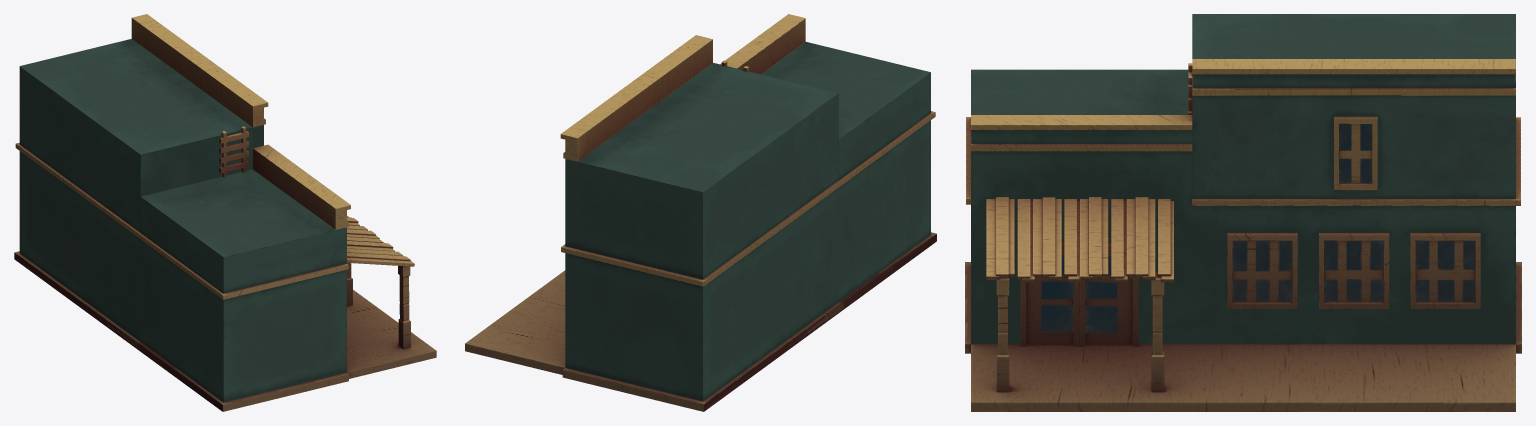
The model's file is DEF_large_house.fbx.
The picture shows the model from 3 angles, left to right: view 1: azimuth 30°, elevation 25°; view 2: azimuth 150°, elevation 25°; view 3: azimuth 270°, elevation 25°; orthographic projection. The views are drawn at different scales.
Parts seen in each view (by area): view 1: large_house_alta, large_house_bassa, base_large_house, tetto_alto, tetto_basso, tettoia, colonne, scala; view 2: large_house_alta, large_house_bassa, base_large_house, tetto_alto, tetto_basso; view 3: large_house_alta, large_house_bassa, base_large_house, tettoia, tetto_alto, tetto_basso, colonne.
Part boxes in pixels (x1,y1,x2,y2): large_house_alta: [15, 39, 263, 341]; large_house_bassa: [138, 169, 348, 402]; base_large_house: [14, 251, 436, 411]; tetto_alto: [131, 14, 268, 127]; tetto_basso: [253, 144, 350, 229]; tettoia: [347, 216, 414, 266]; colonne: [347, 263, 410, 349]; scala: [219, 126, 248, 177]; large_house_alta: [561, 63, 840, 401]; large_house_bassa: [761, 42, 935, 301]; base_large_house: [465, 232, 936, 411]; tetto_alto: [560, 35, 712, 161]; tetto_basso: [720, 14, 805, 74]; large_house_alta: [1192, 14, 1520, 344]; large_house_bassa: [966, 69, 1192, 346]; base_large_house: [965, 262, 1521, 411]; tettoia: [986, 197, 1173, 282]; tetto_alto: [1192, 59, 1515, 95]; tetto_basso: [971, 115, 1192, 151]; colonne: [996, 271, 1164, 392].
Size of the model in its own units: 962 by 916 by 1609.
